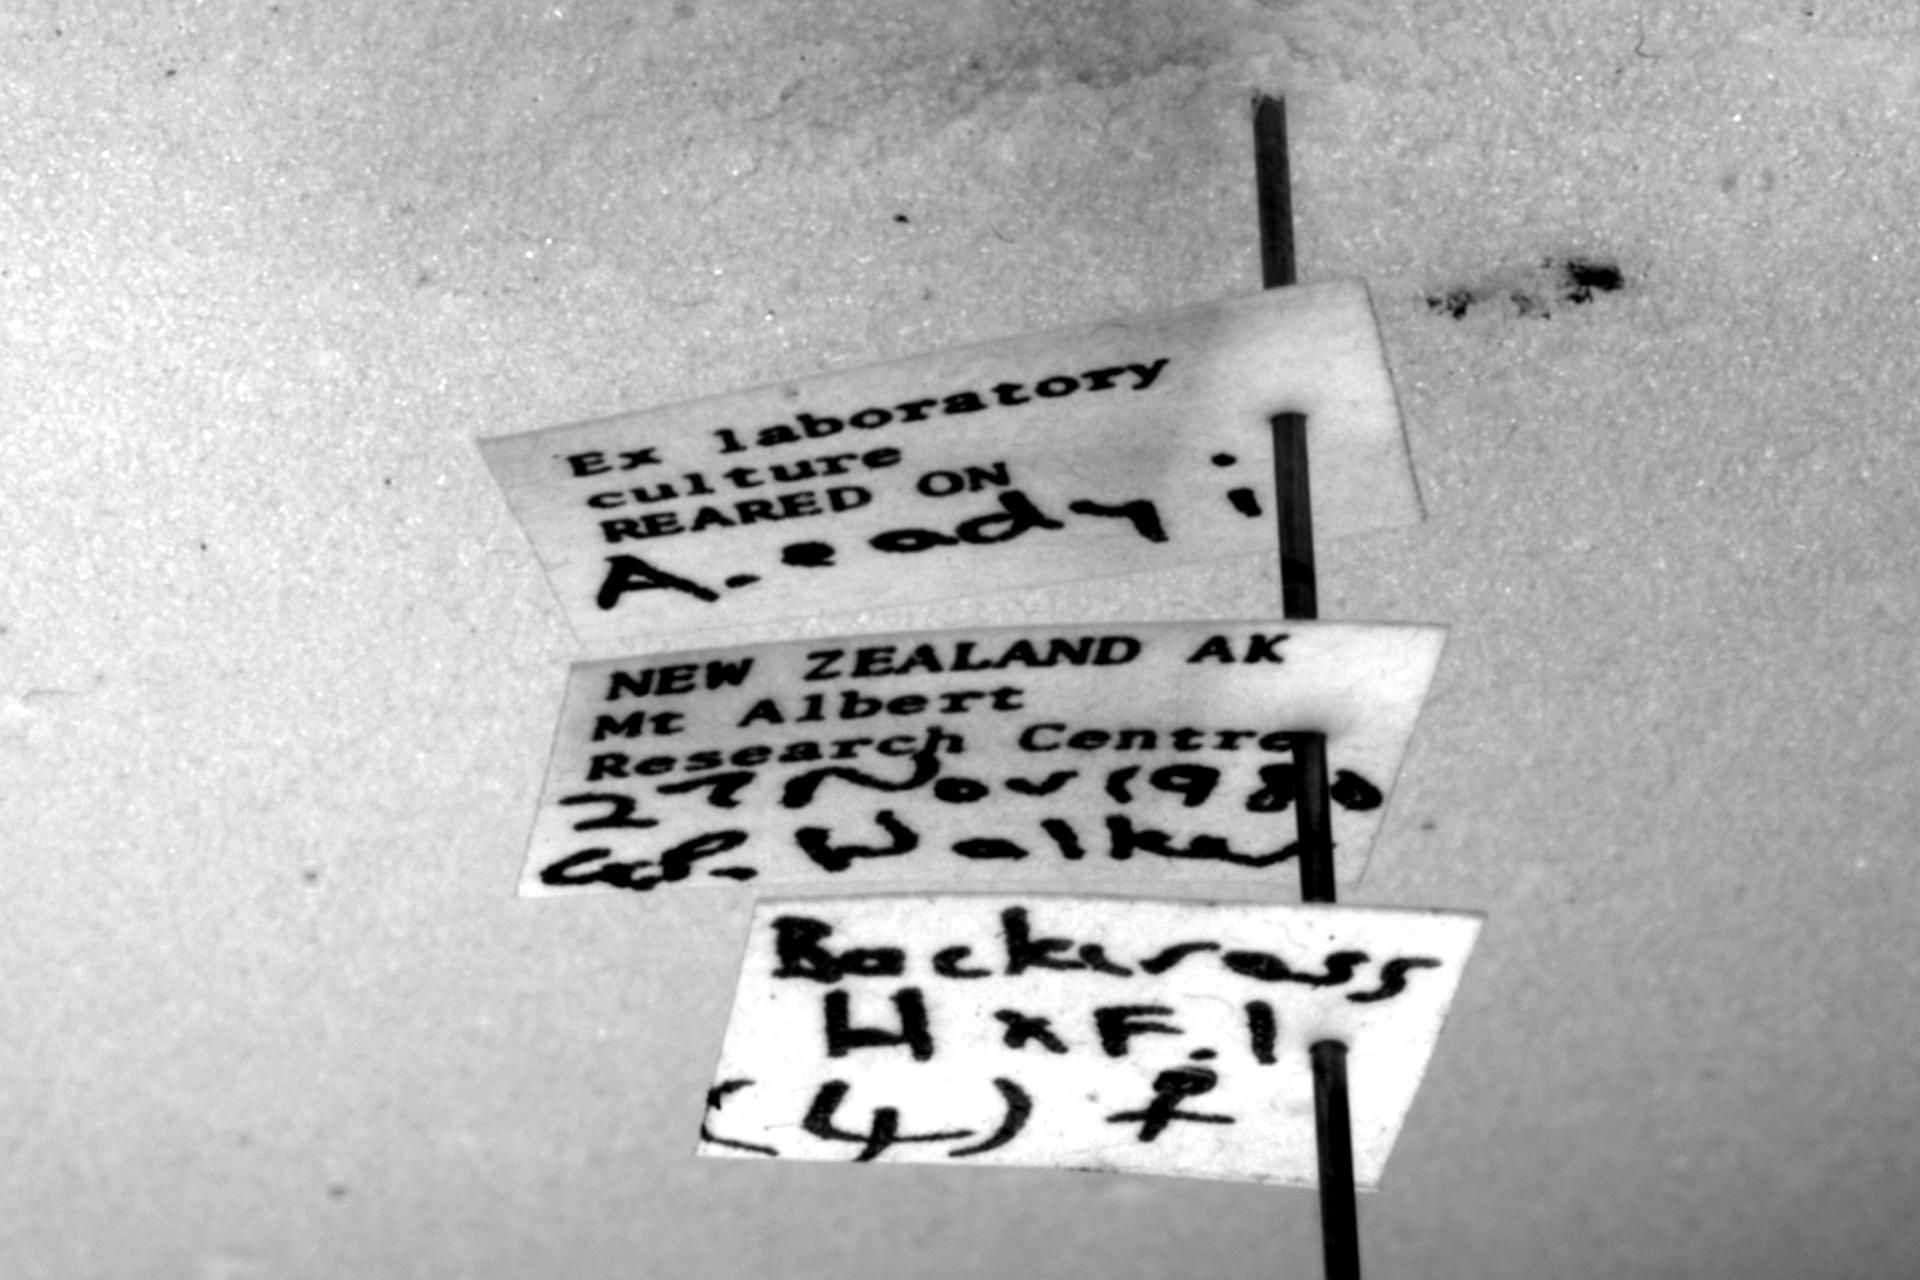hand_label: (697, 896, 1481, 1189)
mixed_label: (480, 277, 1426, 641), (517, 623, 1447, 896)
